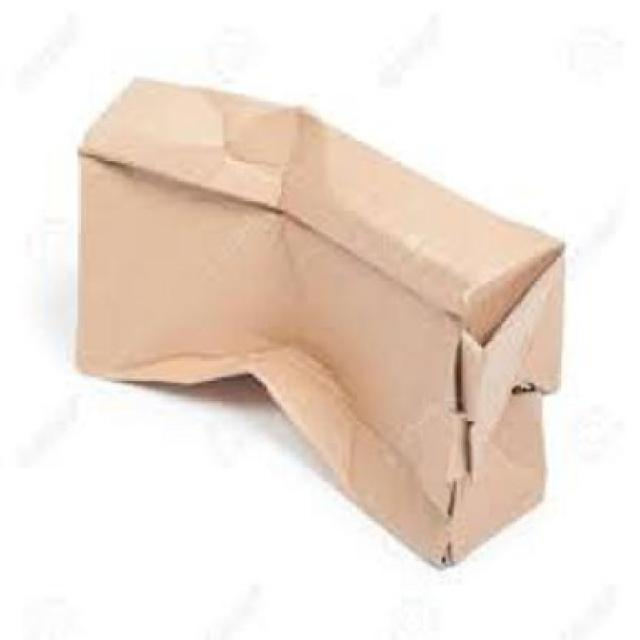defect: (58, 71, 577, 583)
